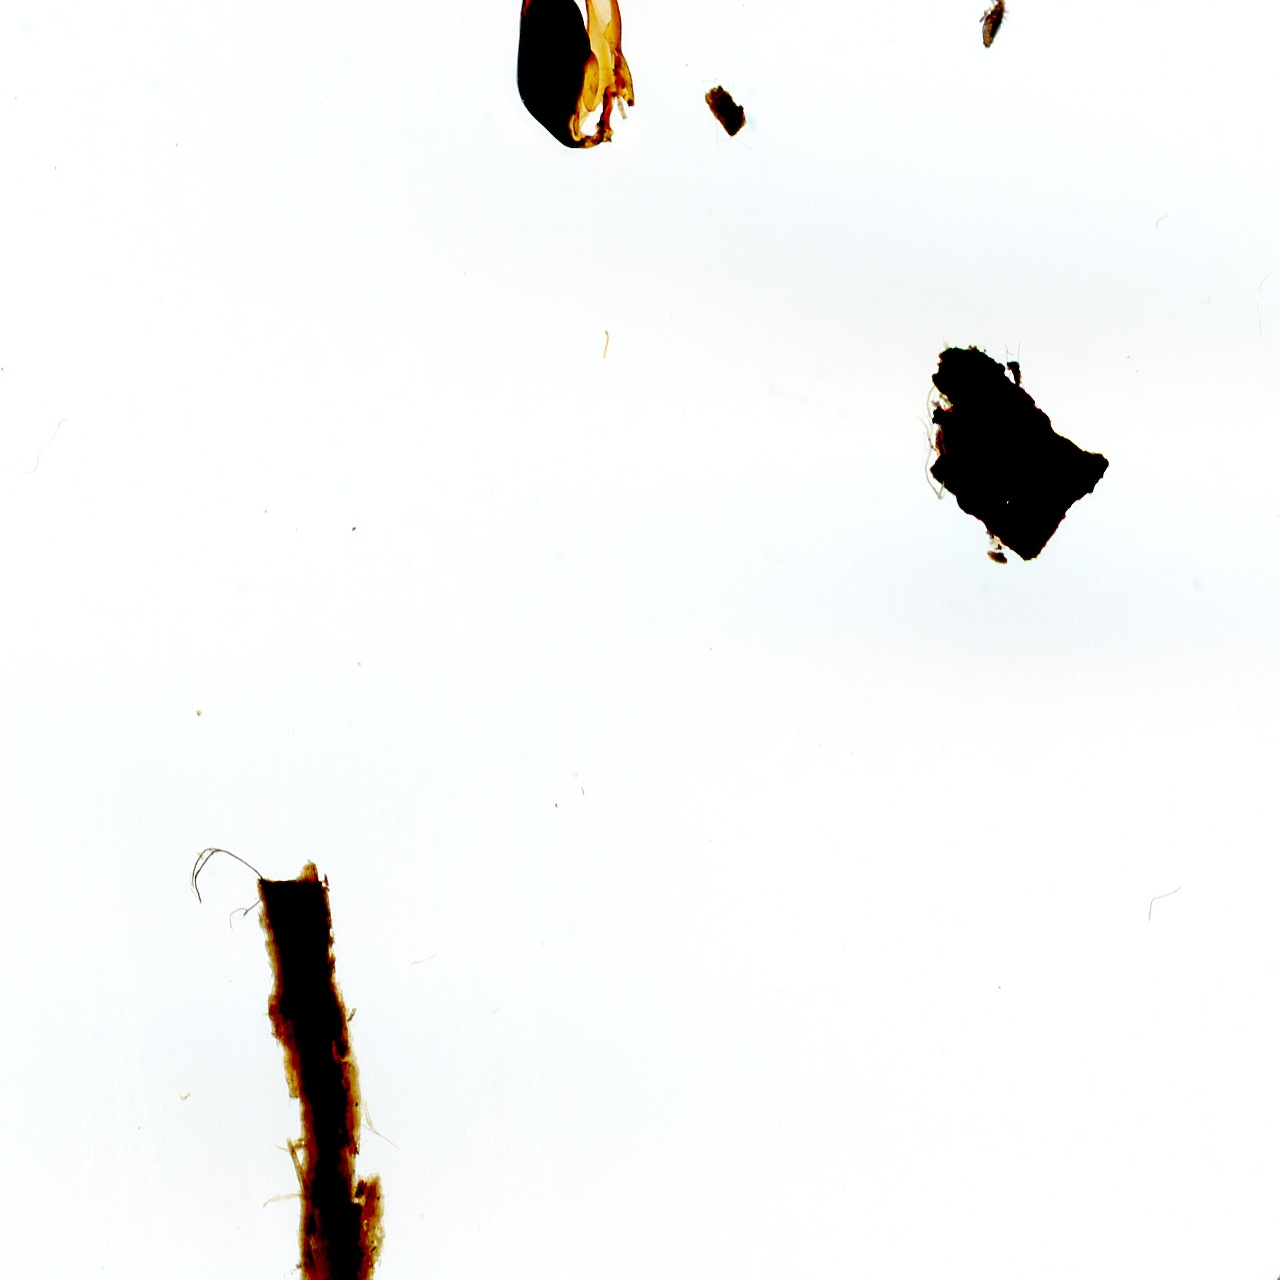arthropod: (972, 0, 1014, 64)
